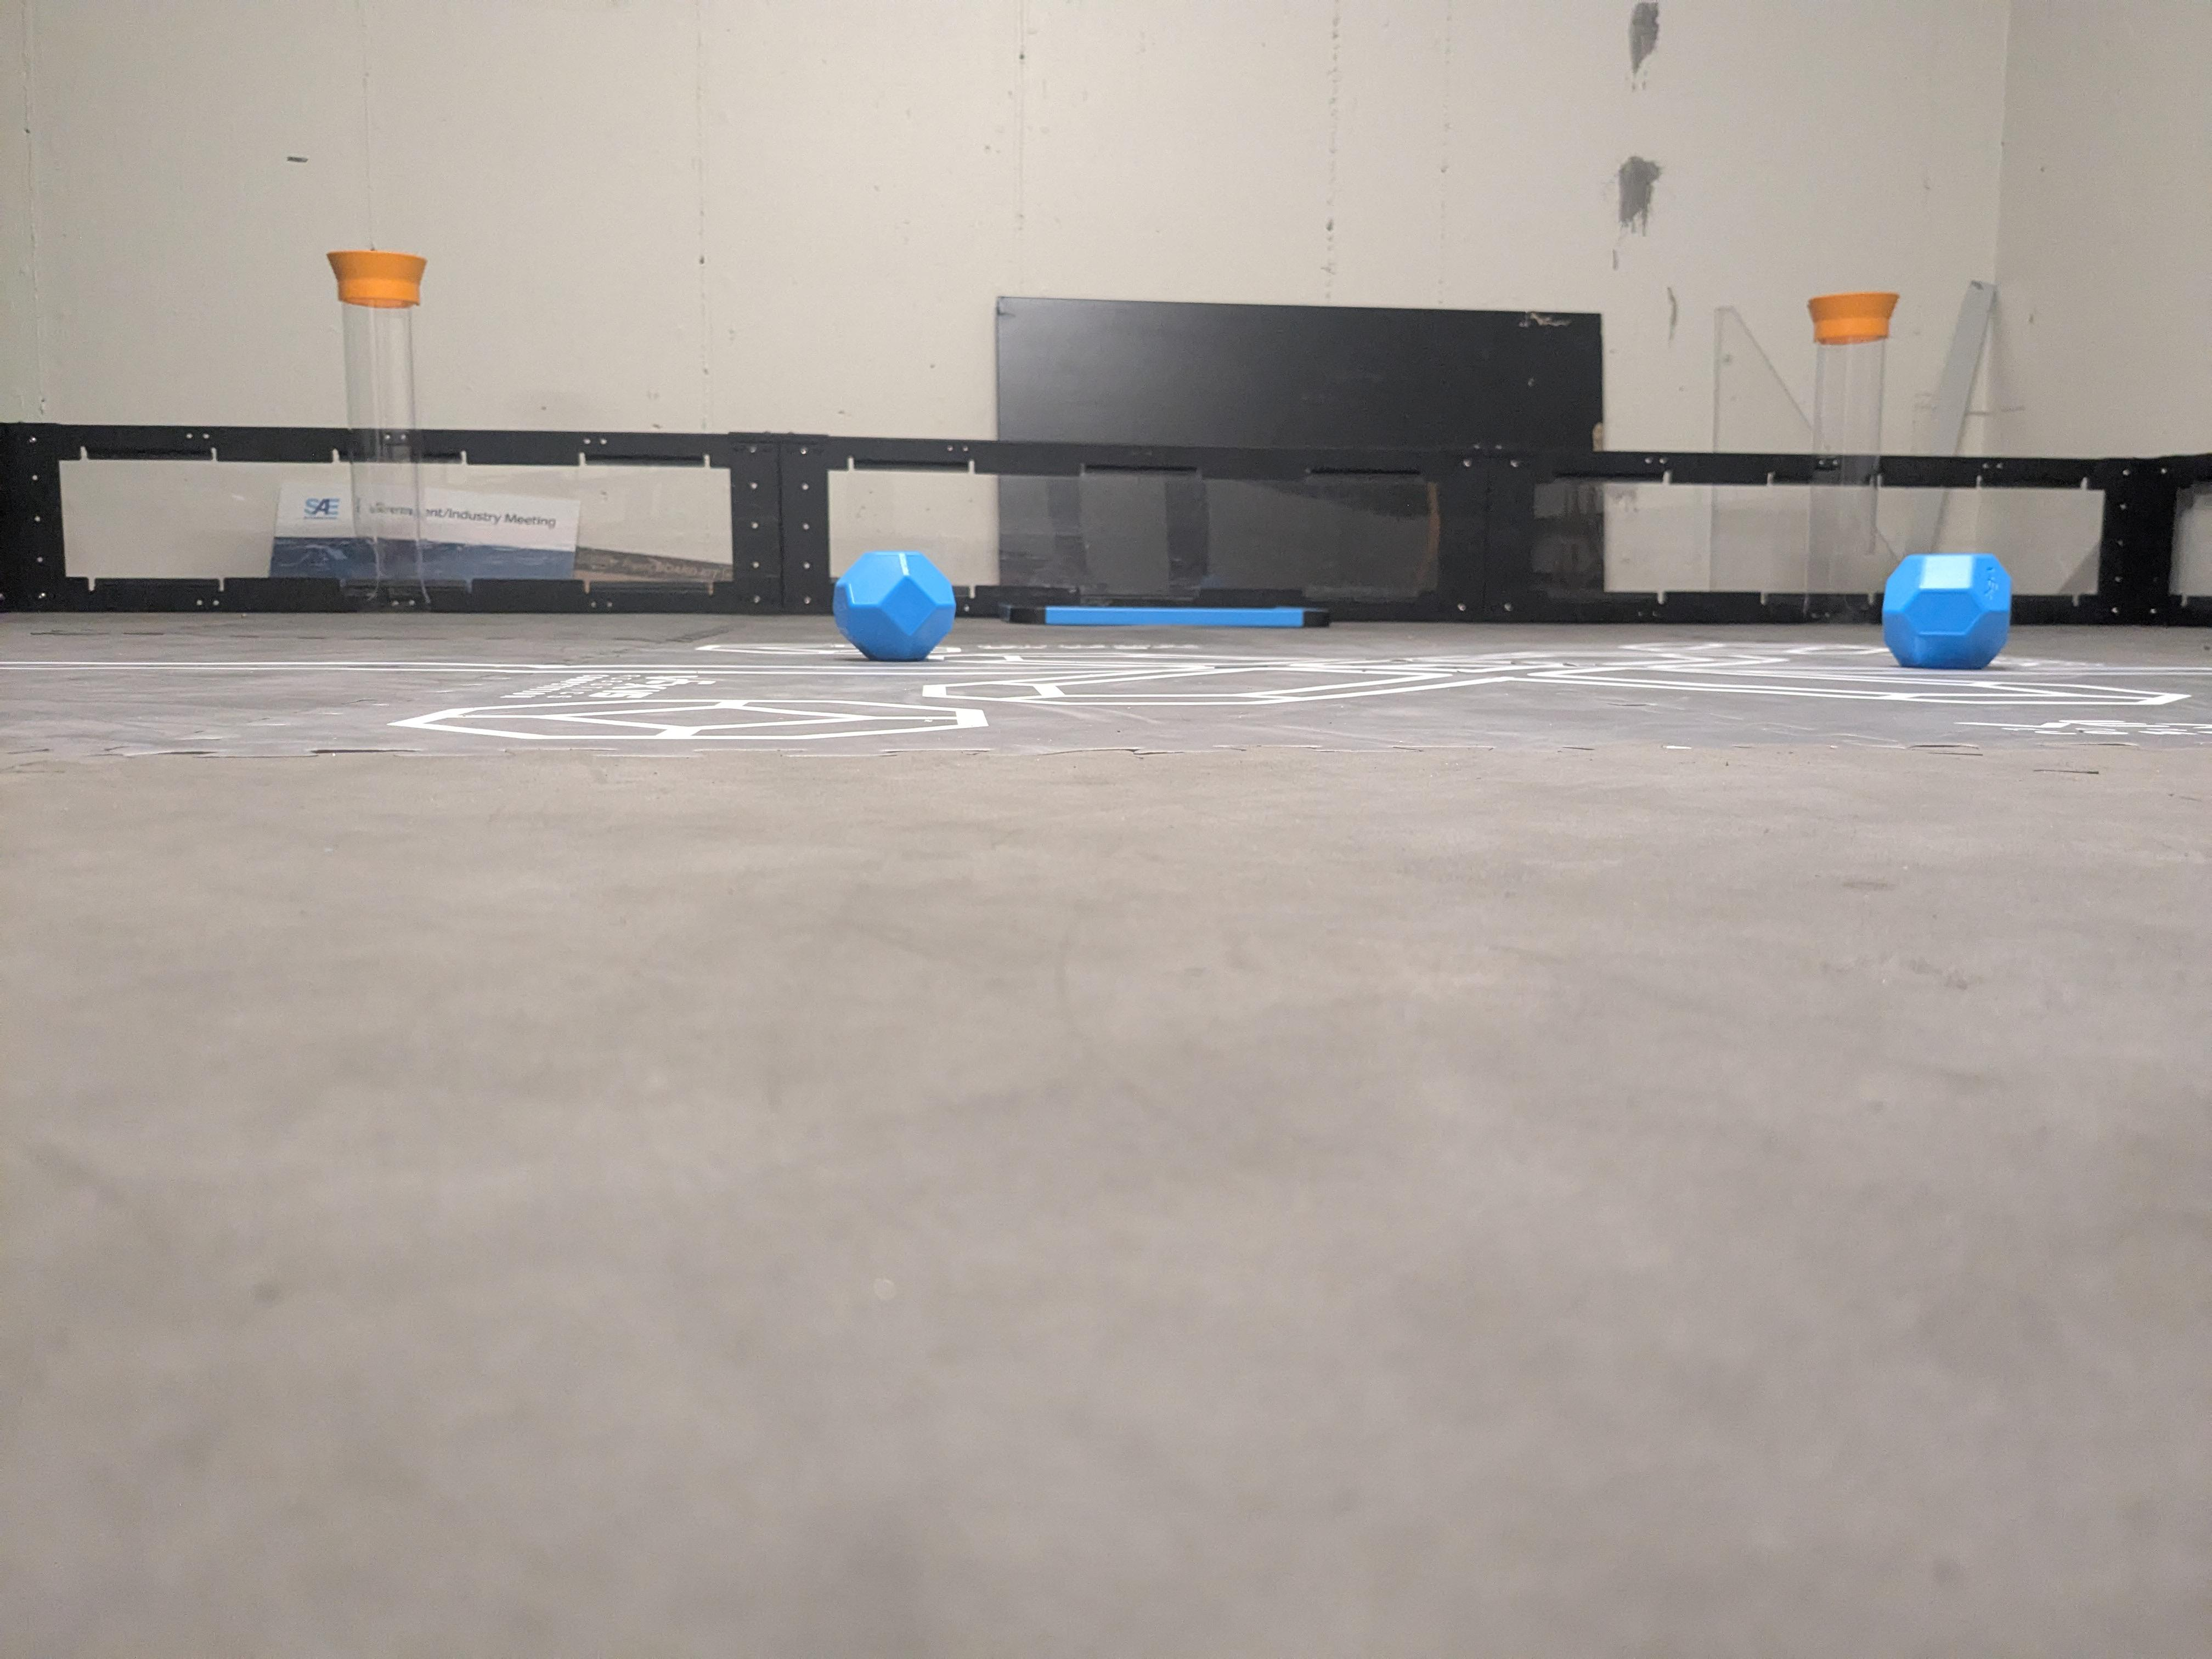Vex-Pieces-BLUE: (1883, 551, 2013, 669), (836, 549, 958, 660)
